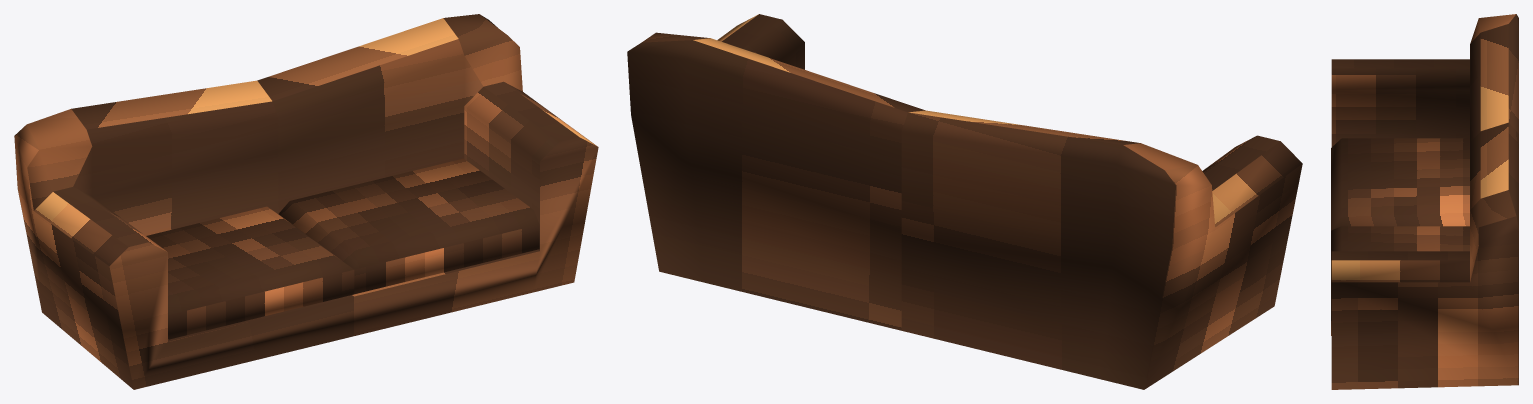
Rendered from sofa.fbx.
3 views of the same model, side by side, from view 1: azimuth 30°, elevation 25°; view 2: azimuth 150°, elevation 25°; view 3: azimuth 270°, elevation 25° (orthographic). The views are drawn at different scales.
Visible parts, largest first — view 1: cube3, cube5, cube6, cube4; view 2: cube3, cube5; view 3: cube5, cube3, cube4, cube6.
Part boxes in pixels (left/top/right/bottom): cube3: left=14, top=80, right=353, bottom=389; cube5: left=257, top=14, right=598, bottom=335; cube6: left=278, top=158, right=539, bottom=294; cube4: left=146, top=206, right=354, bottom=339; cube3: left=901, top=110, right=1302, bottom=389; cube5: left=627, top=14, right=925, bottom=330; cube5: left=1331, top=122, right=1518, bottom=389; cube3: left=1331, top=14, right=1518, bottom=146; cube4: left=1331, top=138, right=1469, bottom=230; cube6: left=1331, top=226, right=1469, bottom=335.
Size of the model in its own units: 5.43 by 2.13 by 1.96.
